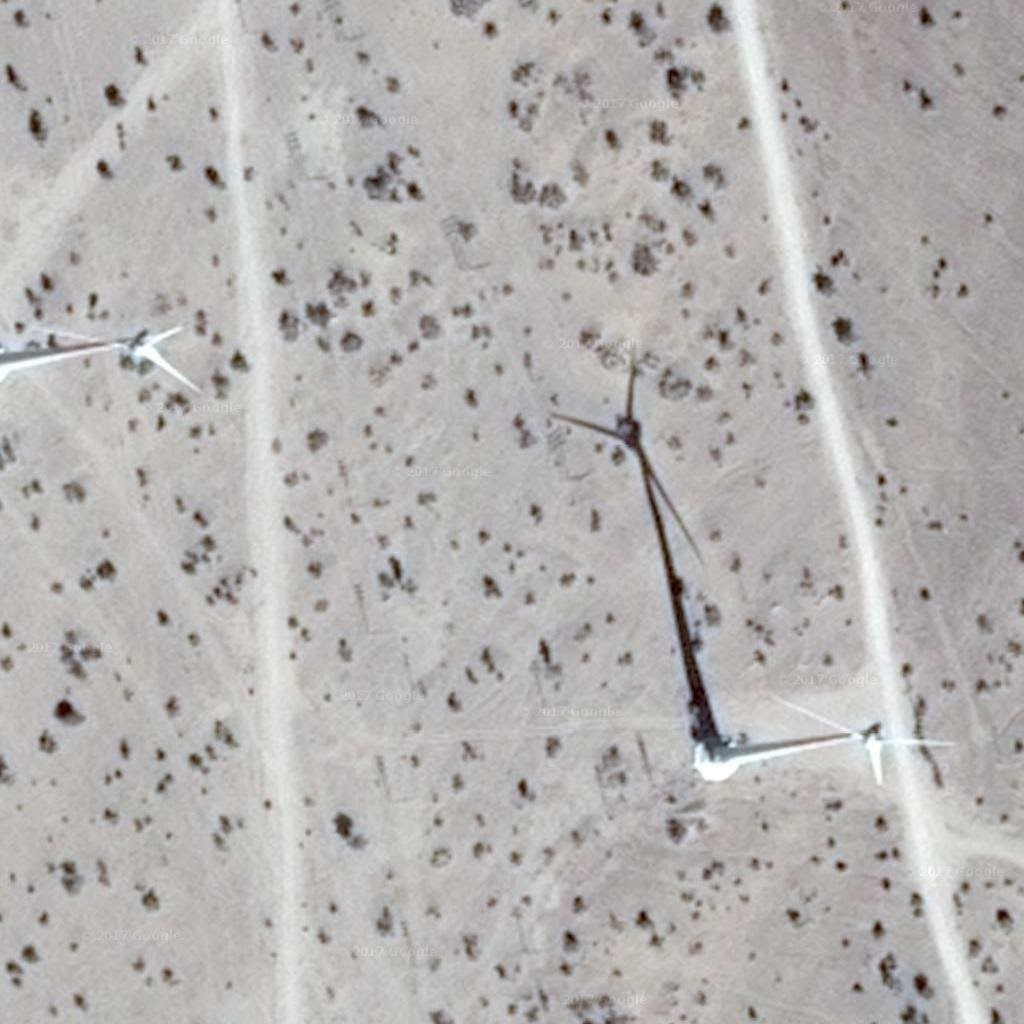Windmill: (557, 340, 729, 732)
